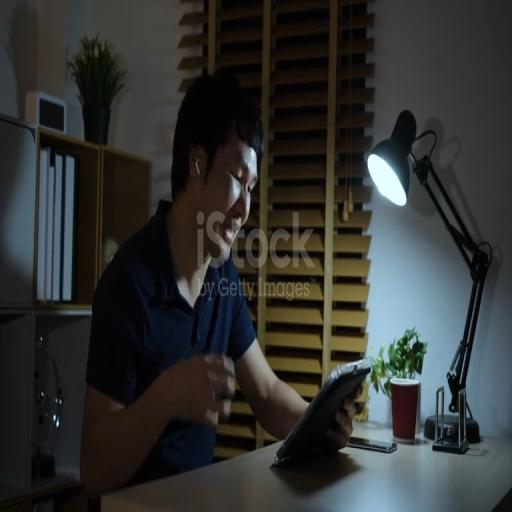earphone: (194, 152, 202, 181)
